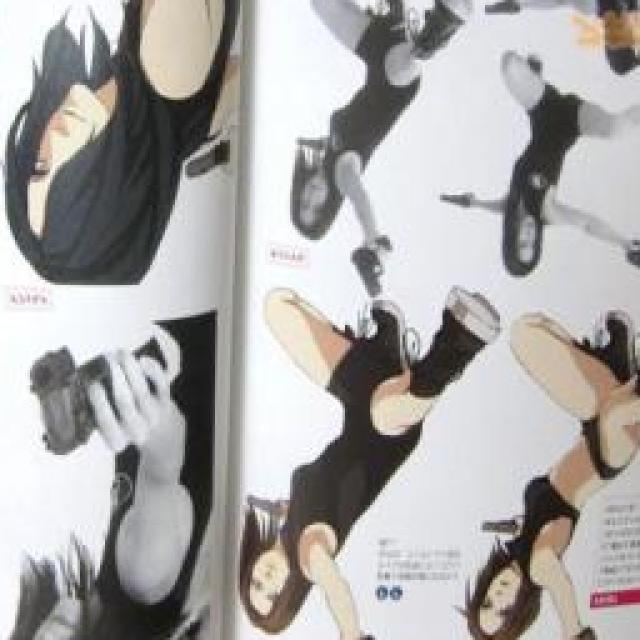pistol: (28, 348, 110, 458), (348, 235, 397, 300), (185, 142, 229, 182), (155, 620, 203, 640), (482, 514, 518, 538), (482, 0, 517, 23), (620, 242, 640, 282), (245, 497, 283, 515), (440, 192, 474, 212)
